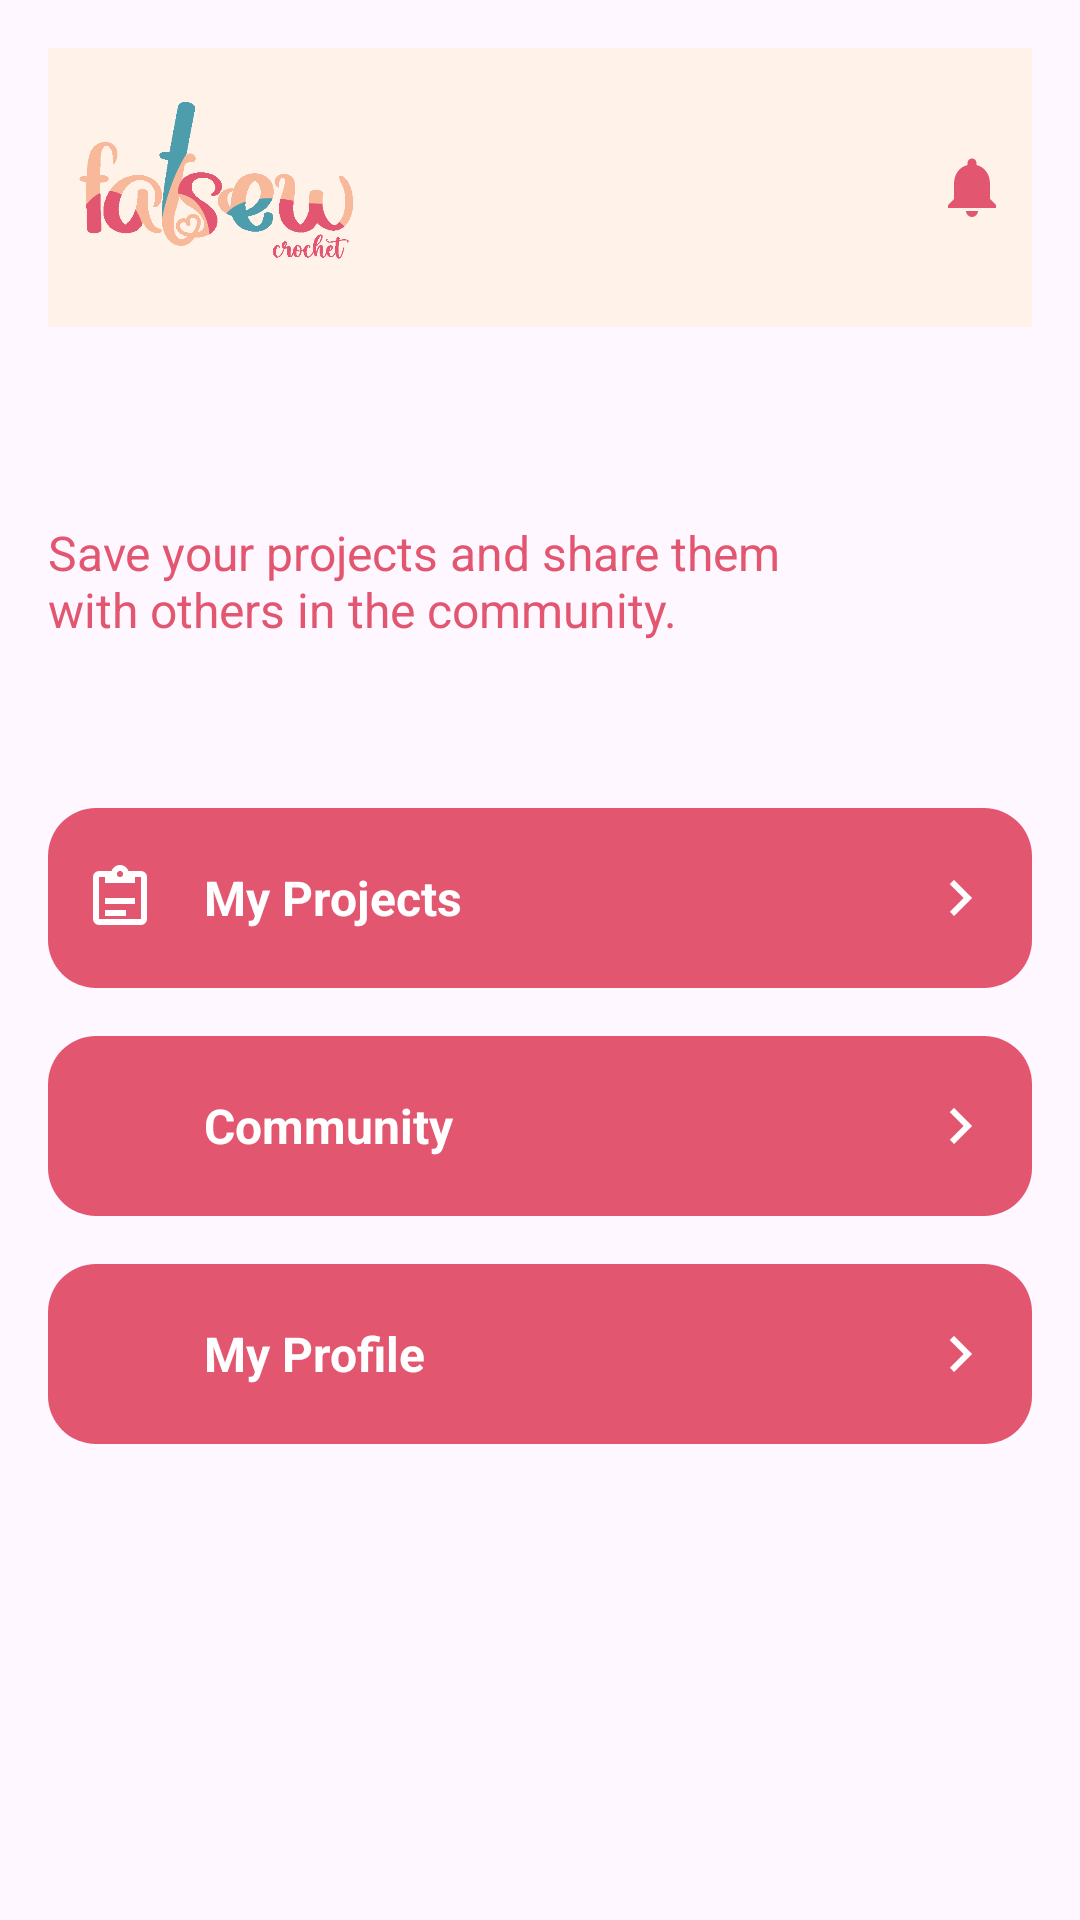

Screen size 1080px×1920px. Icon name, then its box in pixels as (x1, y1, x2, y2):
arrow right: (950, 880, 972, 916), (950, 1108, 972, 1144), (950, 1336, 972, 1372)
Notifications: (948, 158, 996, 217)
